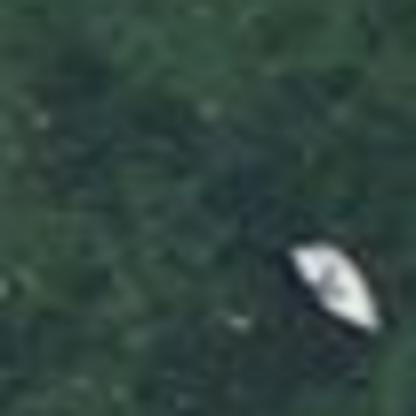ship: (275, 231, 398, 342)
